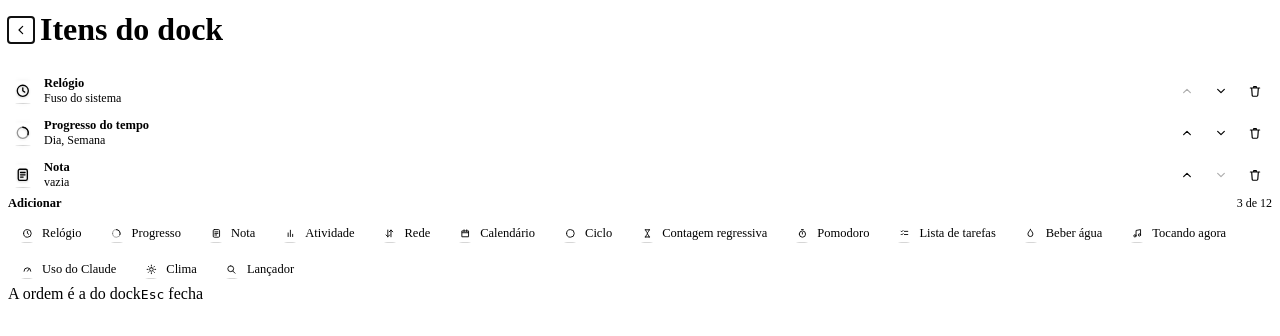
Test case: DockItems › shows notReady when a command fails without a code
This screenshot has width=1280, height=336.
Click the button named "Descer Relógio" at {"x": 1221, "y": 91}, box [1208, 78, 1234, 104]
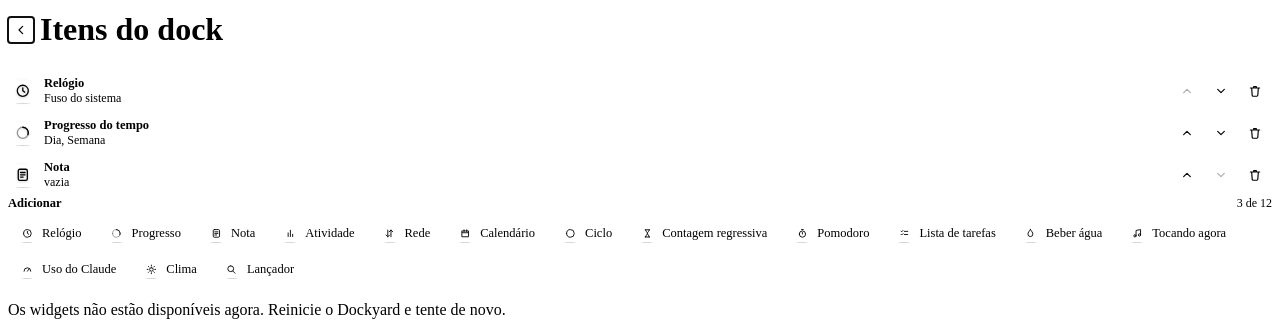
Now the message reads "Os widgets não estão disponíveis agora. Reinicie o Dockyard e tente de novo.", box [8, 301, 506, 318]
